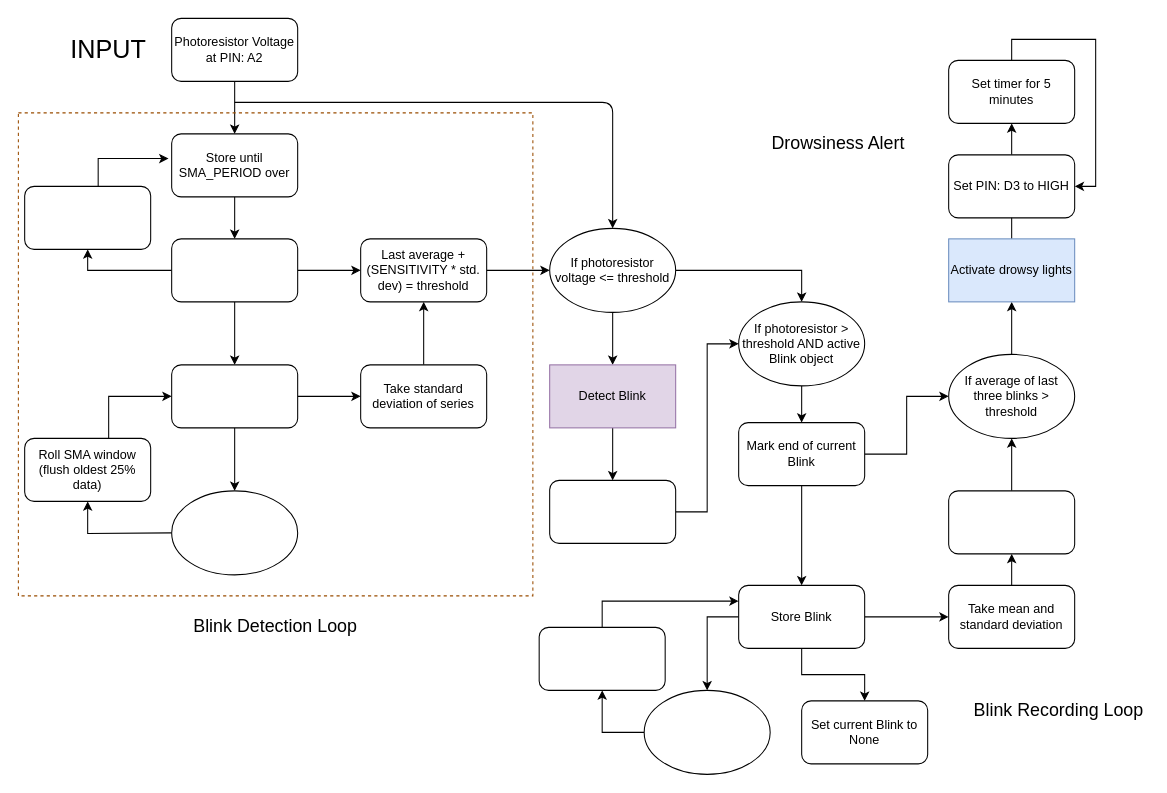
Image size: 1167x793. Some labels were removed from this diagram. The shapes that lost their labels are listed below. From the top down, each one's centre as x and y in pixels, then its label:
At point (87, 217): "Flush window".
At point (234, 270): "Take Data Average".
At point (234, 396): "Store in SMA_series".
At point (612, 511): "Initialize new Blink object and mark as active Blink".
At point (1011, 522): "Mean of stored blinks + (SENSITIVITY * std. dev) = threshold".
At point (234, 532): "If SMA_series over max size".
At point (601, 658): "Roll blink window (flush 25% oldest data)".
At point (706, 731): "If blink_series over max size".
